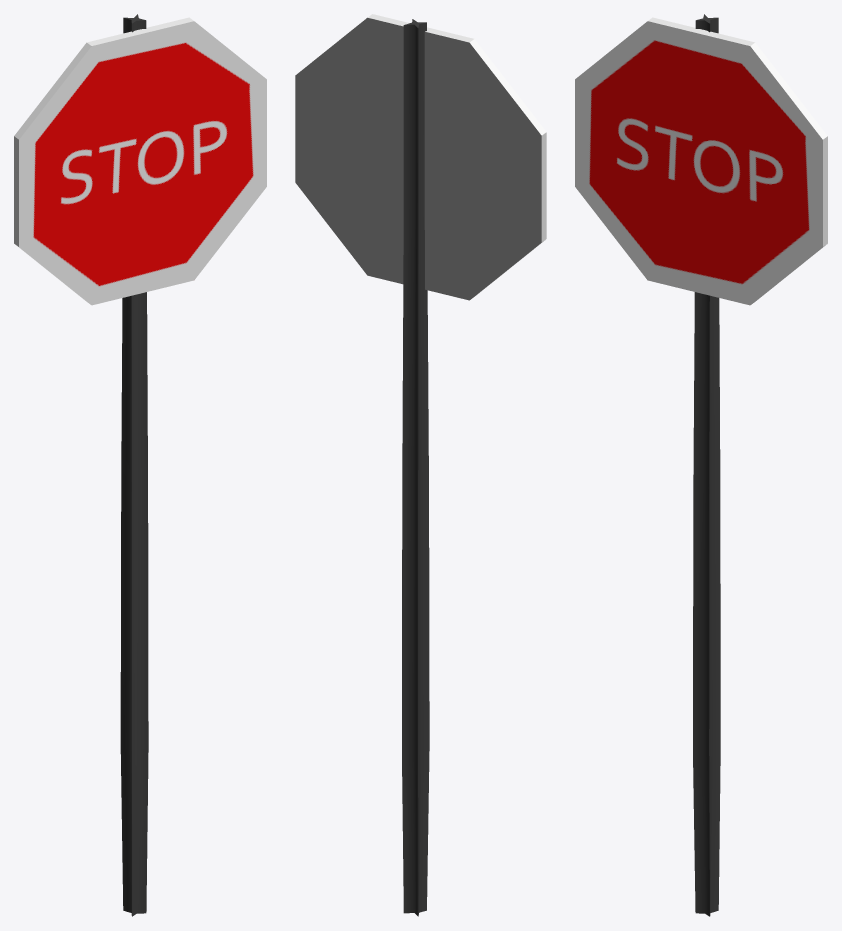
Rendered from StopSignAsset.fbx.
3 renders of one model, left to right at view 1: azimuth 30°, elevation 25°; view 2: azimuth 150°, elevation 25°; view 3: azimuth 330°, elevation 25°, orthographic.
Visible parts, largest first — view 1: StopSignSign1; view 2: StopSignSign1; view 3: StopSignSign1.
Boxes of the visible parts, x1,y1,x2,y2 form: StopSignSign1: [14, 14, 266, 916]; StopSignSign1: [295, 14, 546, 916]; StopSignSign1: [575, 14, 827, 916].
Bounding box in the file's own units: 69.31 × 239 × 6.79.
